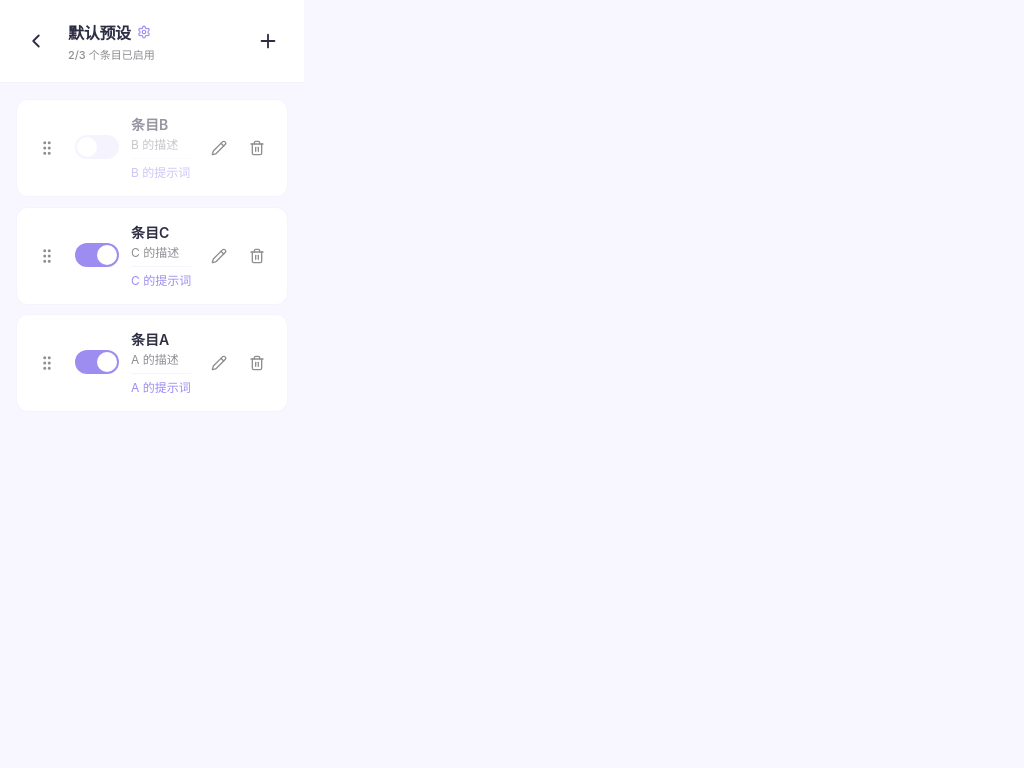
Test: PromptPresetPage 预设管理 › 新建预设：取默认条目清单、落库、切换选中并提示
The image size is (1024, 768).
Expected: the element showing "条目B B 的描述 B 的提示词" is shown, left=16, top=99, right=288, bottom=197
Click the element showing "默认预设" at (109, 33), box left=68, top=23, right=151, bottom=43
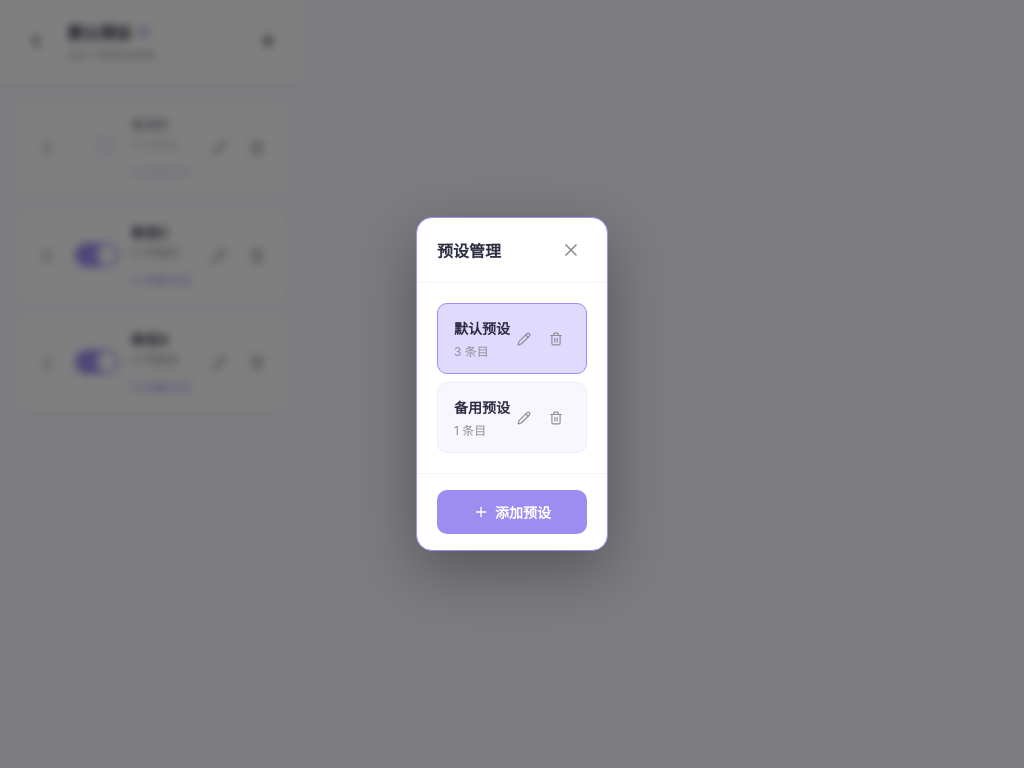
Expected: the element showing "预设管理 默认预设 3 条目 备用预设 1 条目 添加预设" is shown, left=416, top=217, right=608, bottom=551
Click the button with class "btn-full" at (512, 512), box left=437, top=490, right=587, bottom=534
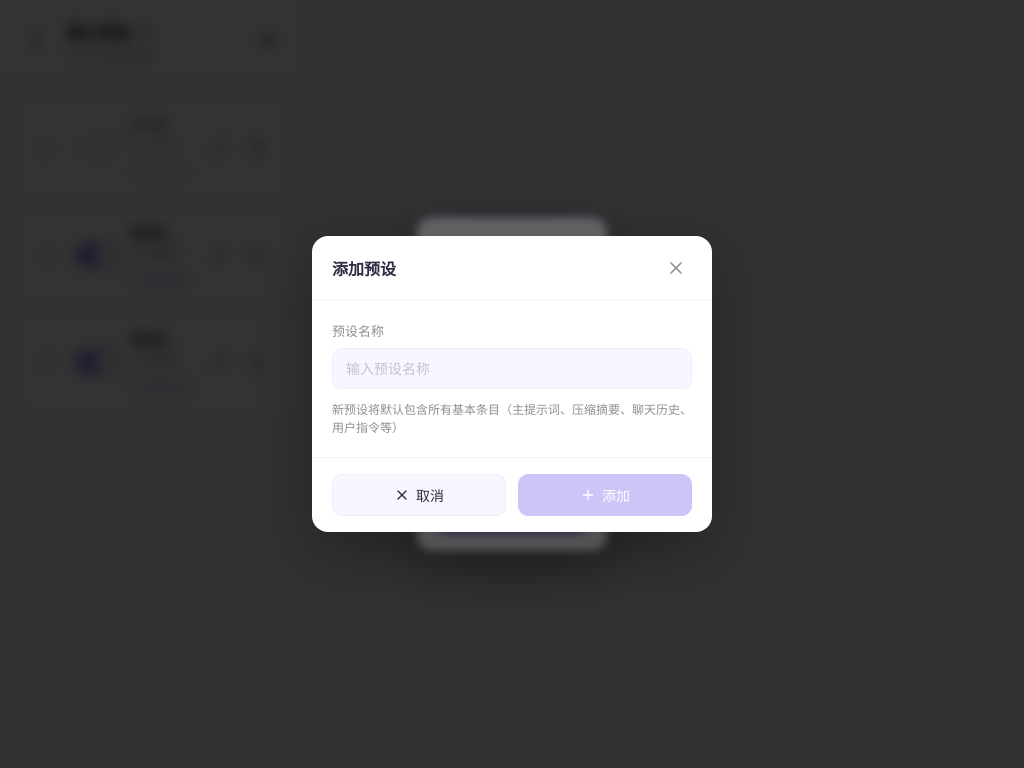
Expected: the button "添加" is disabled, left=518, top=474, right=692, bottom=516
Type "新预设" into the field with placeholder "输入预设名称" at (512, 368), box left=332, top=348, right=692, bottom=389
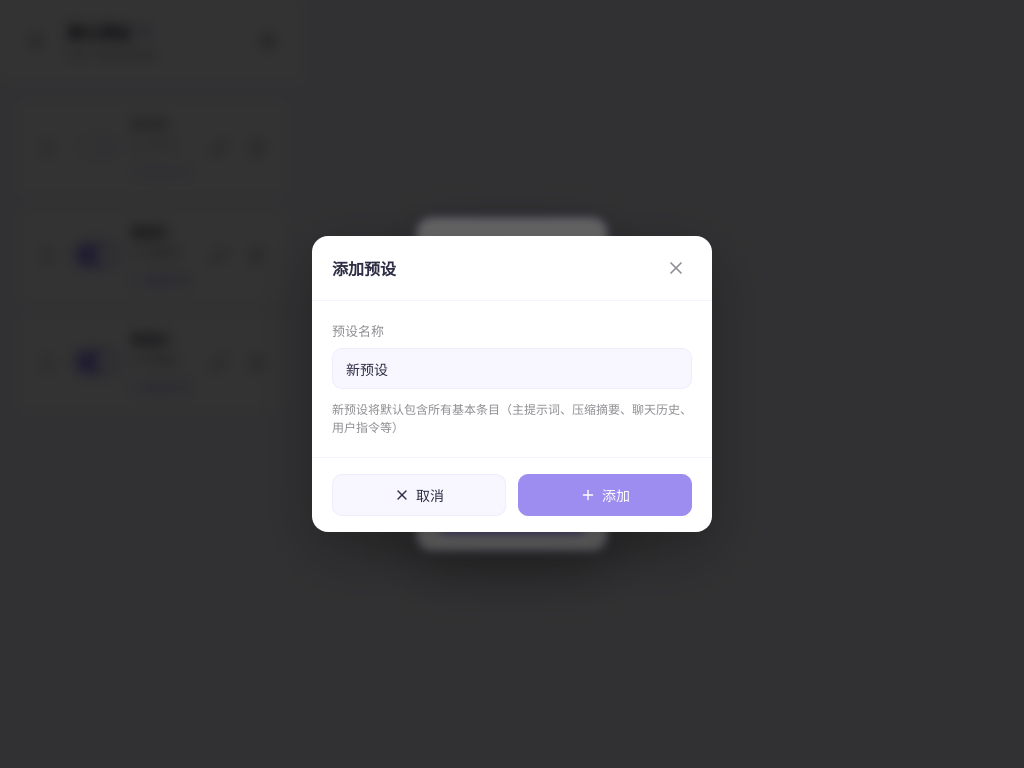
Click the button "添加" at (605, 495), box left=518, top=474, right=692, bottom=516
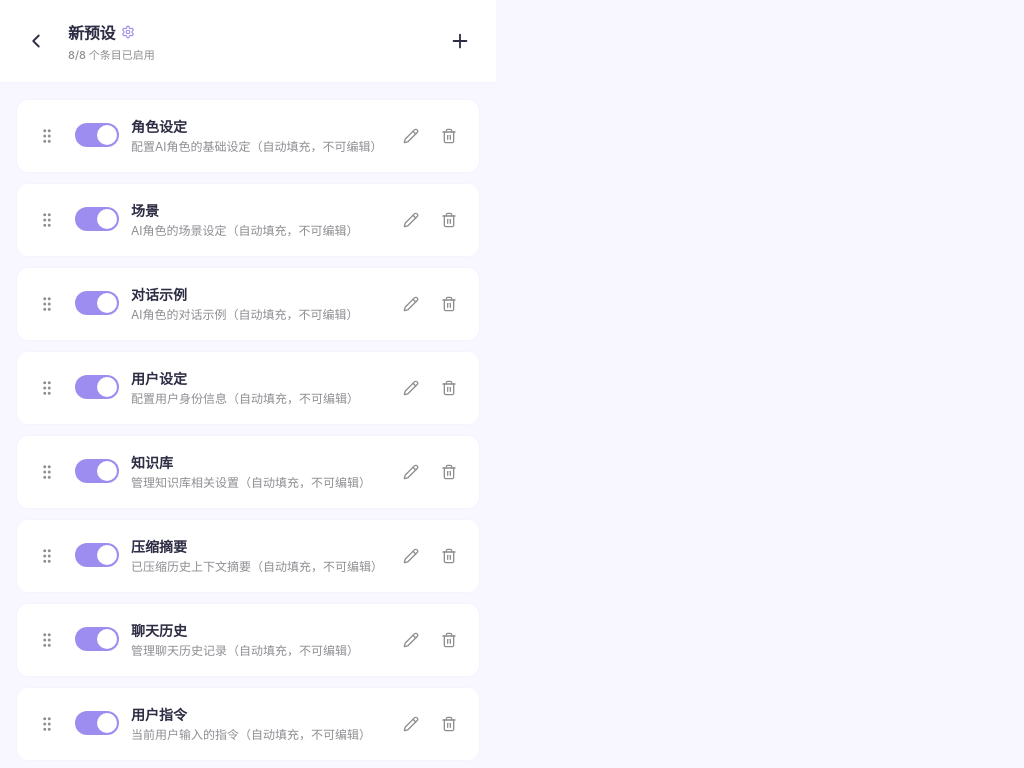
Expected: the element showing "新预设" is shown, left=68, top=23, right=135, bottom=43
Expected: the text "8/8 个条目已启用" is shown, left=68, top=48, right=155, bottom=62
